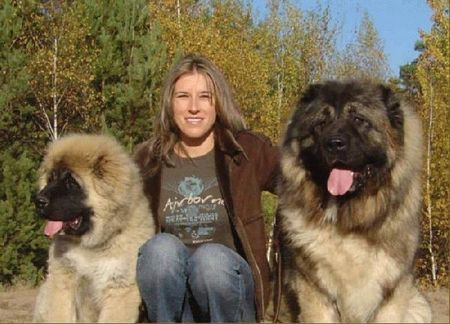cau_ovcharka: (274, 76, 433, 324), (31, 132, 155, 324)
human_face: (171, 76, 216, 138)
person: (132, 52, 281, 324)
